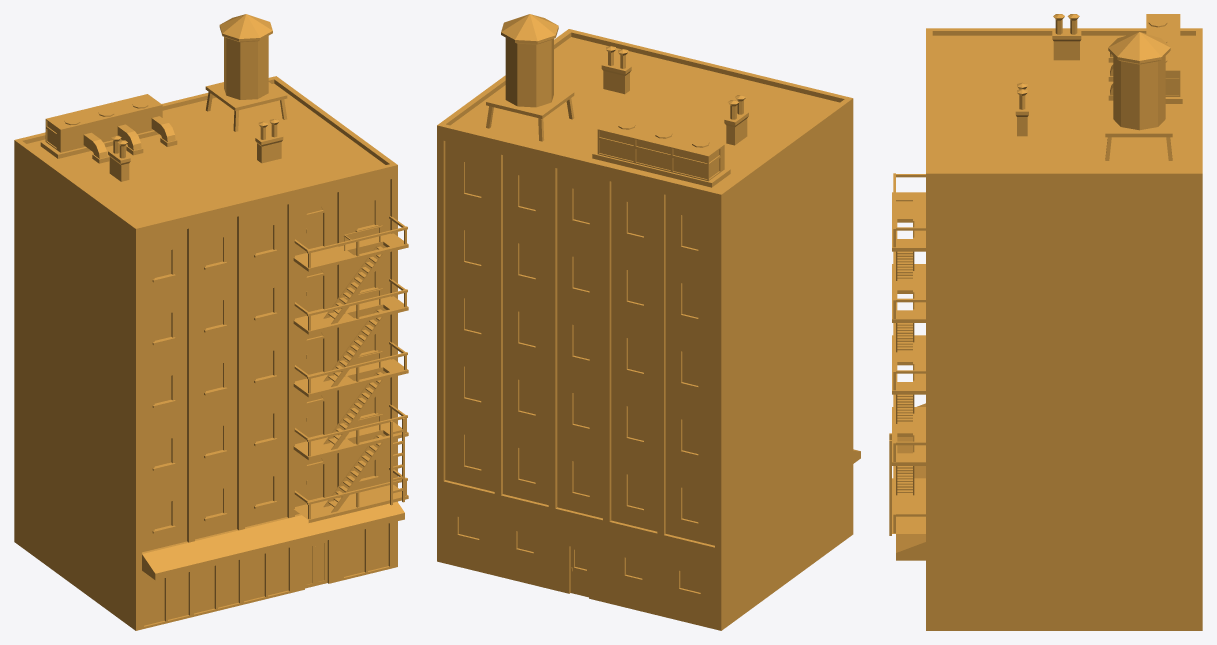
The model's file is building-block-5floor-front.fbx.
3 views of the same model, side by side, from view 1: azimuth 30°, elevation 25°; view 2: azimuth 150°, elevation 25°; view 3: azimuth 270°, elevation 25° (orthographic). The views are drawn at different scales.
Parts seen in each view (by area): view 1: building-block-5floor-front; view 2: building-block-5floor-front; view 3: building-block-5floor-front.
Part boxes in pixels (left/top/right/bottom): building-block-5floor-front: left=14, top=14, right=408, bottom=630; building-block-5floor-front: left=437, top=14, right=860, bottom=630; building-block-5floor-front: left=889, top=14, right=1202, bottom=630.
Bounding box in the file's own units: 13.1 × 23.81 × 11.92.
